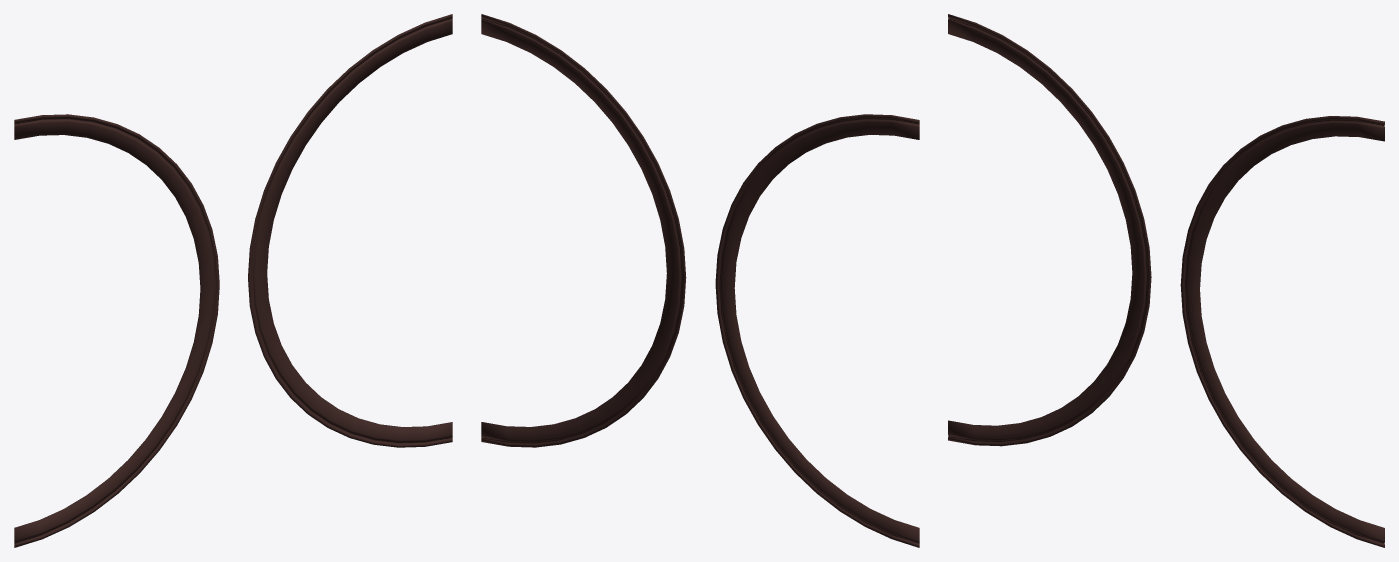
File: shkaf-leather-rim.glb
3 renders of one model, left to right at view 1: azimuth 30°, elevation 25°; view 2: azimuth 150°, elevation 25°; view 3: azimuth 330°, elevation 25°, orthographic.
Parts seen in each view (by area): view 1: кож_обод_R, кож_обод_L; view 2: кож_обод_L, кож_обод_R; view 3: кож_обод_L, кож_обод_R.
Part boxes in pixels (<box>): кож_обод_R: <box>14,114,219,547</box>; кож_обод_L: <box>248,14,452,447</box>; кож_обод_L: <box>481,14,686,447</box>; кож_обод_R: <box>715,114,919,547</box>; кож_обод_L: <box>1180,116,1384,547</box>; кож_обод_R: <box>948,14,1151,446</box>.
Bounding box in the file's own units: 1.07 × 1 × 0.0048.
